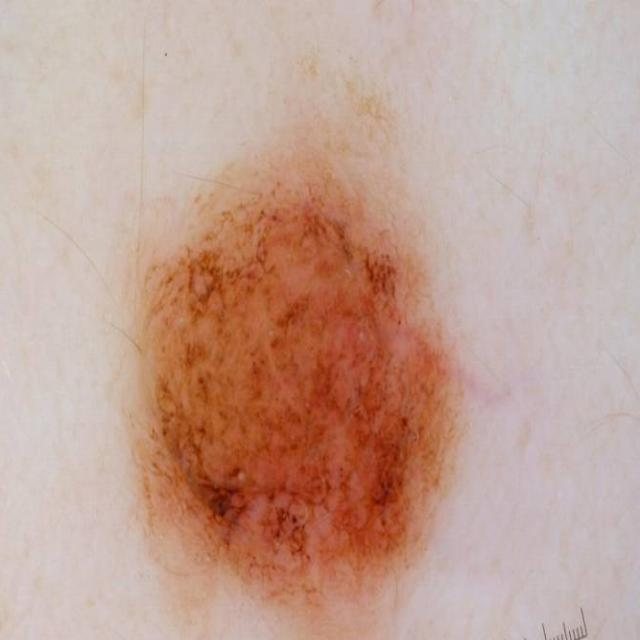Melanoma: (102, 119, 516, 627)
